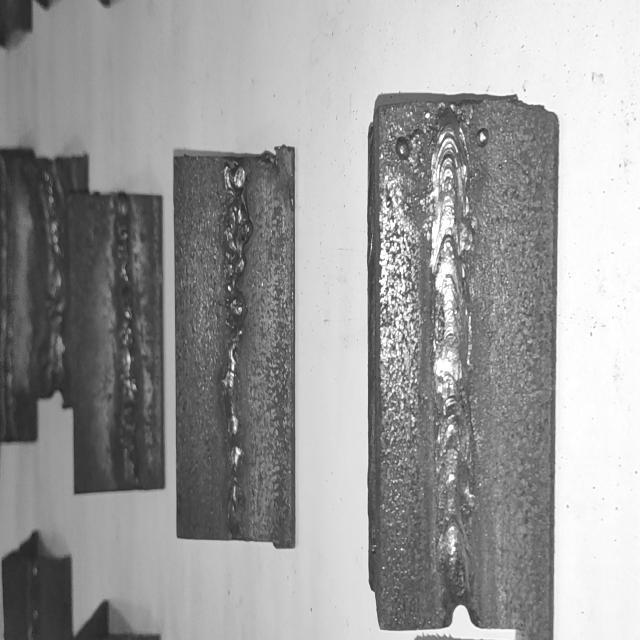Defect: (214, 338, 252, 520), (214, 171, 254, 331), (109, 212, 138, 342)
Welding Line: (432, 124, 478, 600), (219, 162, 248, 536), (113, 199, 140, 483), (40, 176, 68, 386)
Workpiece: (366, 107, 553, 640), (170, 147, 298, 555), (65, 190, 164, 494), (18, 153, 85, 398)
